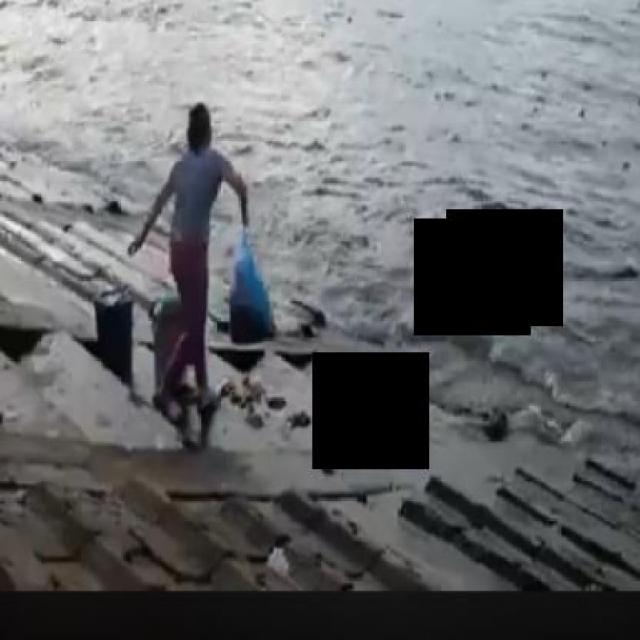plastic bag: (218, 216, 291, 376)
